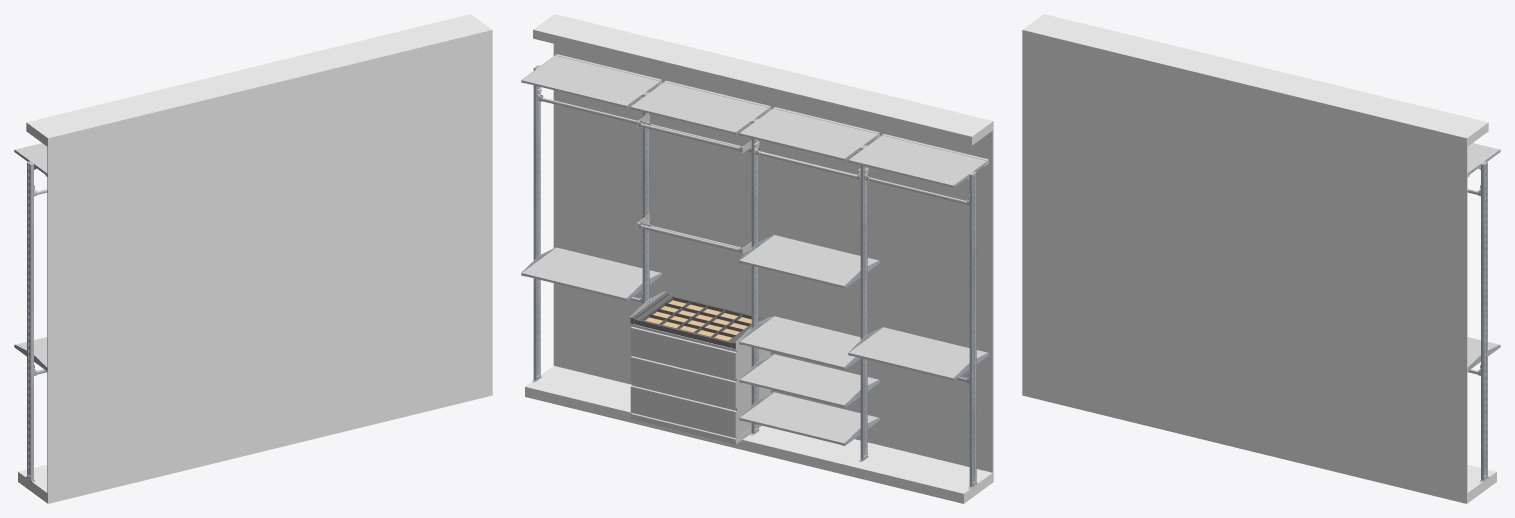
3 views of the same model, side by side, from view 1: azimuth 30°, elevation 25°; view 2: azimuth 150°, elevation 25°; view 3: azimuth 330°, elevation 25° (orthographic).
Visible parts, largest first — view 1: Geom3D_, Geom3D_组件#2, Geom3D_组件#16; view 2: Geom3D_, Geom3D_组件#15 (×6), Geom3D_组件#16 (×4), Geom3D_组件#4_柜子 copy 002, Geom3D_组件#2 (×5), Geom3D (×2), Geom3D_组件#11_双衣杆 copy 002 (×2), Geom3D_组件#10_单挂衣杆 copy 001 (×2); view 3: Geom3D_, Geom3D_组件#2, Geom3D_组件#16.
Part boxes in pixels (x1,y1,x2,y2): Geom3D_: (18, 14, 492, 503); Geom3D_组件#2: (25, 161, 35, 482); Geom3D_组件#16: (15, 143, 47, 176); Geom3D_: (525, 14, 993, 503); Geom3D_组件#15 (×6): (521, 235, 987, 445); Geom3D_组件#16 (×4): (521, 54, 988, 187); Geom3D_组件#4_柜子 copy 002: (630, 324, 770, 444); Geom3D_组件#2 (×5): (532, 65, 977, 488); Geom3D (×2): (630, 292, 767, 348); Geom3D_组件#11_双衣杆 copy 002 (×2): (637, 113, 751, 254); Geom3D_组件#10_单挂衣杆 copy 001 (×2): (753, 141, 969, 205); Geom3D_: (1022, 14, 1496, 503); Geom3D_组件#2: (1479, 161, 1489, 482); Geom3D_组件#16: (1467, 143, 1499, 177).
Size of the model in its own units: 3.63 by 2.85 by 0.5216.
Materials: 4 (1 with a texture image).
